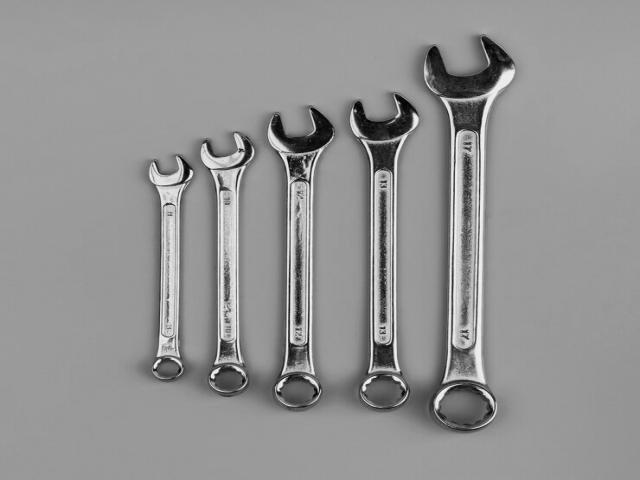Wrench: (424, 36, 515, 431), (350, 94, 419, 409), (268, 108, 334, 410), (200, 132, 254, 395), (149, 156, 192, 380)
